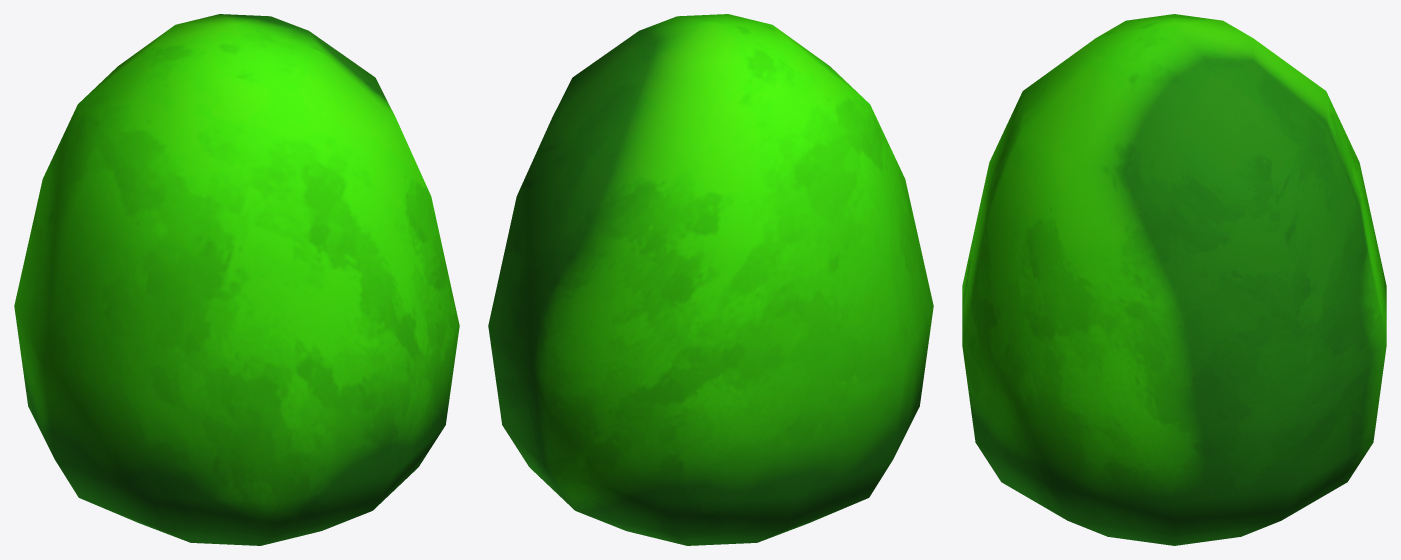
File: smEggPoison.fbx
The picture shows the model from 3 angles, left to right: view 1: azimuth 30°, elevation 25°; view 2: azimuth 150°, elevation 25°; view 3: azimuth 270°, elevation 25°; orthographic projection.
Parts seen in each view (by area): view 1: smEggPoison; view 2: smEggPoison; view 3: smEggPoison.
Boxes of the visible parts, left/top/right/bottom form: smEggPoison: left=14, top=14, right=459, bottom=545; smEggPoison: left=488, top=14, right=933, bottom=545; smEggPoison: left=962, top=14, right=1386, bottom=545.
Bounding box in the file's own units: 41 × 50.35 × 38.99.
